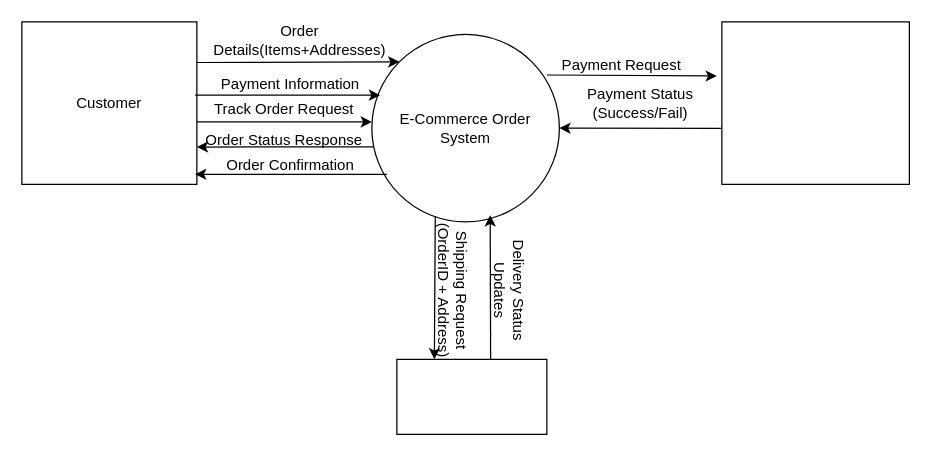
This 931x456 diagram has some shape labels left out. Here are the shapes that lost their labels. From the top down, the box of each, then its label:
(721, 21, 909, 184): Payment Gateway
(396, 358, 547, 434): Logistic Service
